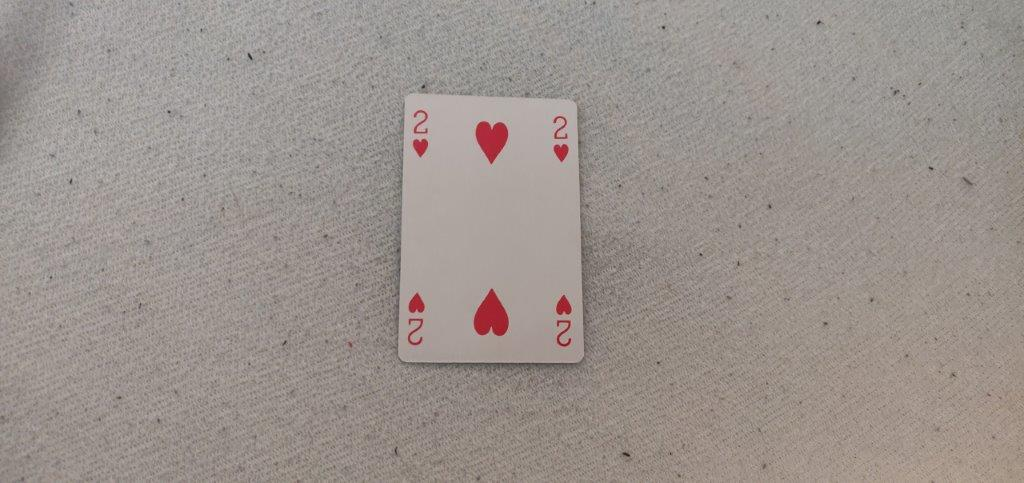2H: (548, 107, 579, 176), (410, 106, 438, 160)
